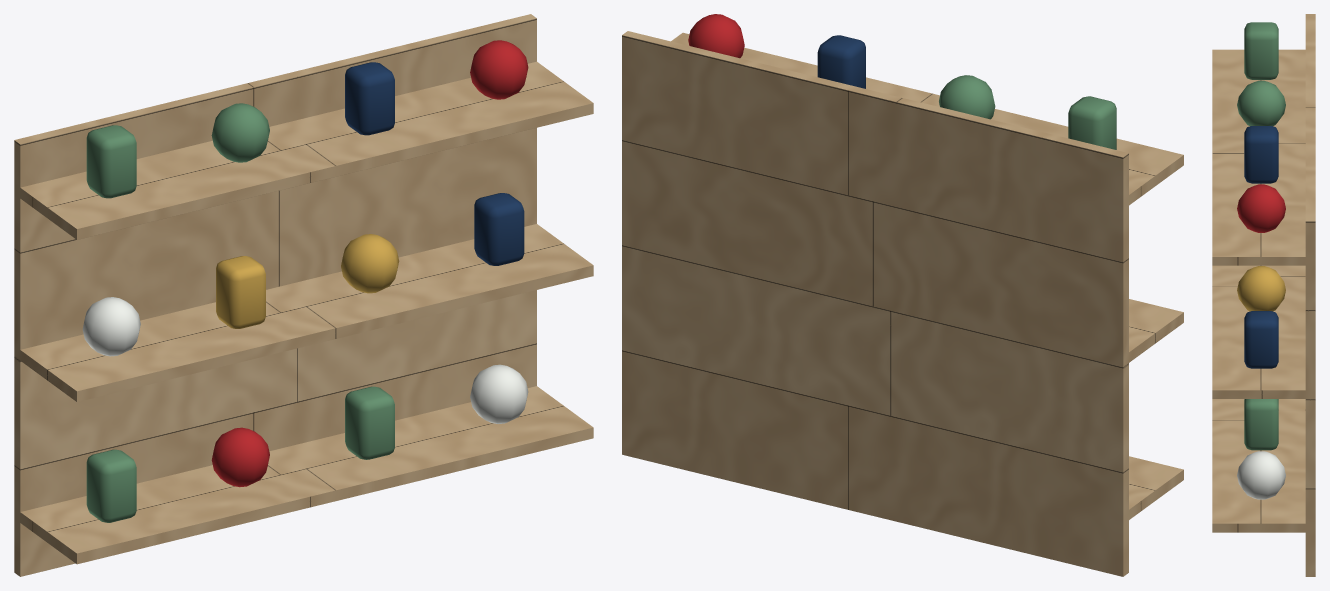
The model's file is shelf_art.gltf.
3 renders of one model, left to right at view 1: azimuth 30°, elevation 25°; view 2: azimuth 150°, elevation 25°; view 3: azimuth 270°, elevation 25°, orthographic. The views are drawn at different scales.
Parts seen in each view (by area): view 1: shelf_art_mesh; view 2: shelf_art_mesh; view 3: shelf_art_mesh.
Part boxes in pixels (left/top/right/bottom): shelf_art_mesh: left=14, top=14, right=593, bottom=576; shelf_art_mesh: left=622, top=14, right=1183, bottom=576; shelf_art_mesh: left=1212, top=14, right=1315, bottom=576.
Size of the model in its own units: 2 by 1.66 by 0.42.
Materials: 6 (1 with a texture image).
